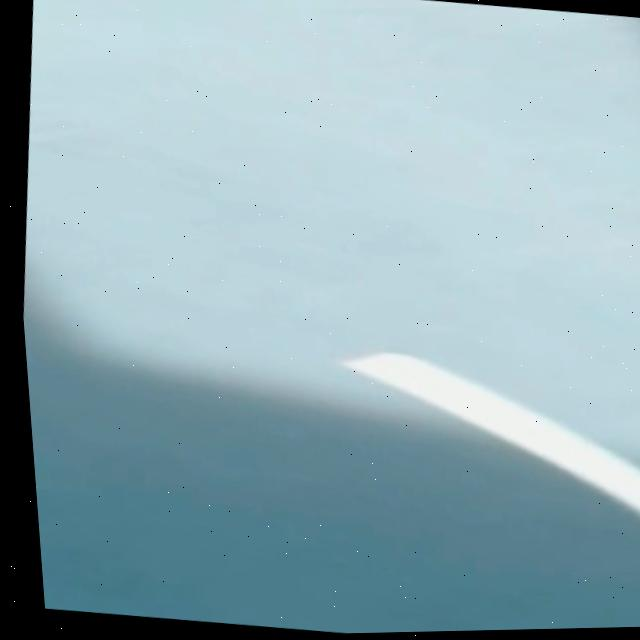center: (343, 353, 640, 514)
